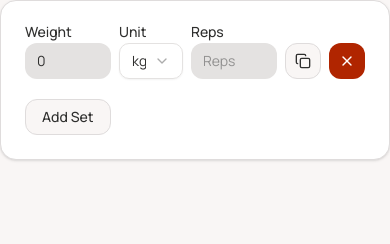
Scenario: AddSets › adds a new blank set when Add Set is clicked
Click the button "Add Set".
click(68, 117)  # box [25,99,110,135]
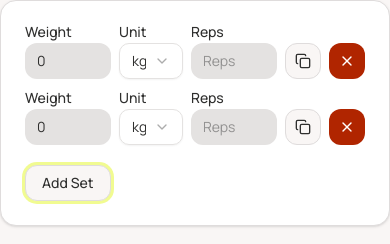
Now the button named "Duplicate set 2" is shown, box [285,109,321,145]
Now the button named "Remove set 2" is shown, box [329,109,365,145]
